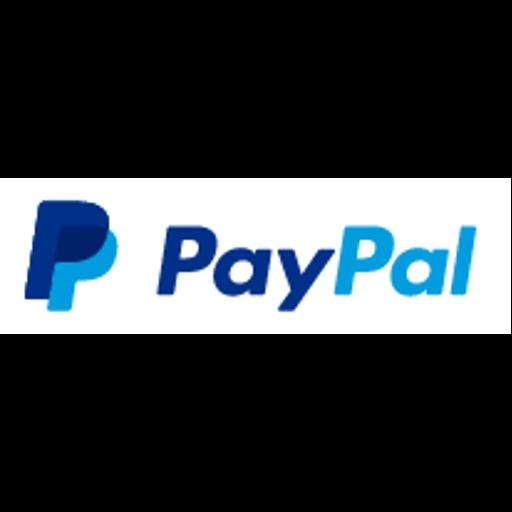PayPal: (0, 178, 511, 334)
